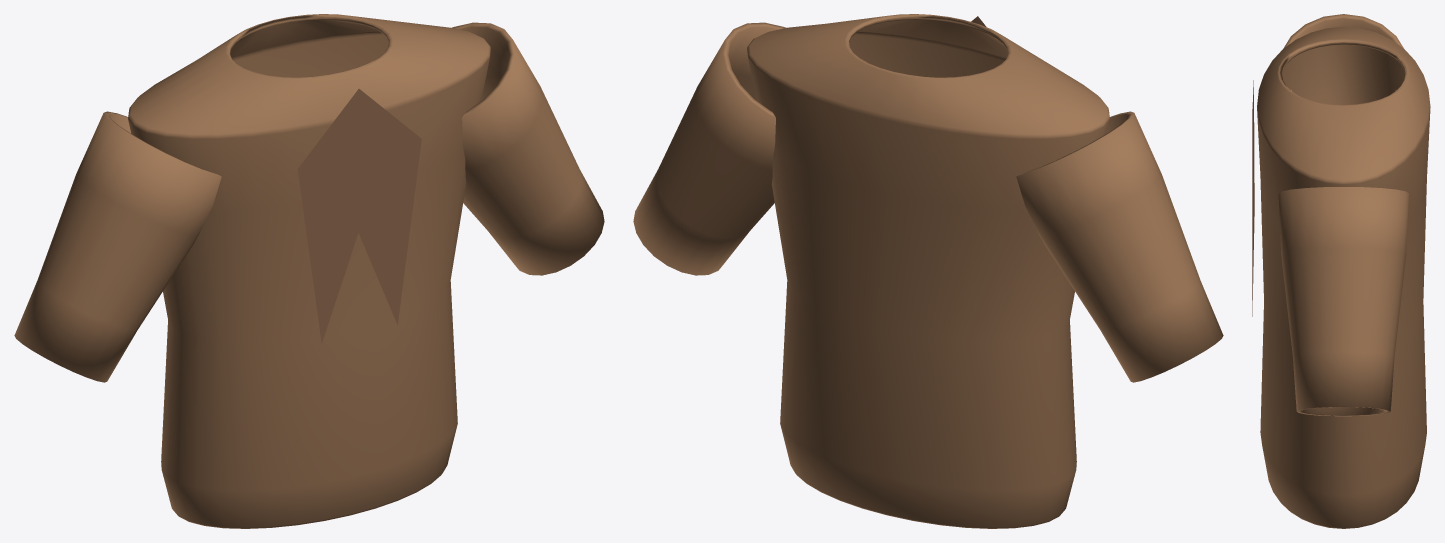
File: chaqueta-ra.glb
3 renders of one model, left to right at view 1: azimuth 30°, elevation 25°; view 2: azimuth 150°, elevation 25°; view 3: azimuth 270°, elevation 25°, orthographic. The views are drawn at different scales.
Visible parts, largest first — view 1: Tailored jacket fabric body, Tailored jacket sleeve, Tailored jacket sleeve.001, Tailored lapel.001, Tailored lapel; view 2: Tailored jacket fabric body, Tailored jacket sleeve, Tailored jacket sleeve.001; view 3: Tailored jacket fabric body, Tailored jacket sleeve.001, Tailored jacket sleeve, Tailored lapel.001.
Part boxes in pixels (<box>): Tailored jacket fabric body: <box>128,14,490,528</box>; Tailored jacket sleeve: <box>14,111,221,382</box>; Tailored jacket sleeve.001: <box>452,22,604,275</box>; Tailored lapel.001: <box>358,89,421,324</box>; Tailored lapel: <box>297,89,358,343</box>; Tailored jacket fabric body: <box>747,14,1109,528</box>; Tailored jacket sleeve: <box>1016,111,1223,382</box>; Tailored jacket sleeve.001: <box>633,22,785,275</box>; Tailored jacket fabric body: <box>1257,26,1430,528</box>; Tailored jacket sleeve.001: <box>1278,187,1408,416</box>; Tailored jacket sleeve: <box>1283,14,1403,91</box>; Tailored lapel.001: <box>1252,83,1254,316</box>.
Bounding box in the file's own units: 0.8317 × 0.6079 × 0.2458.
